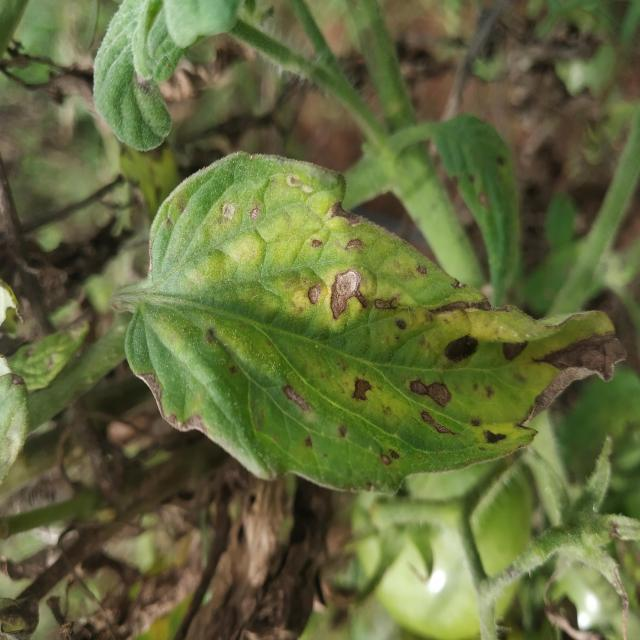Early Blight: (143, 123, 489, 630)
